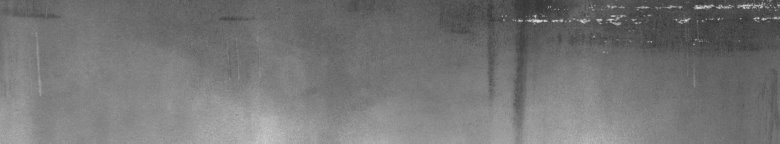hc: (451, 4, 776, 128)
